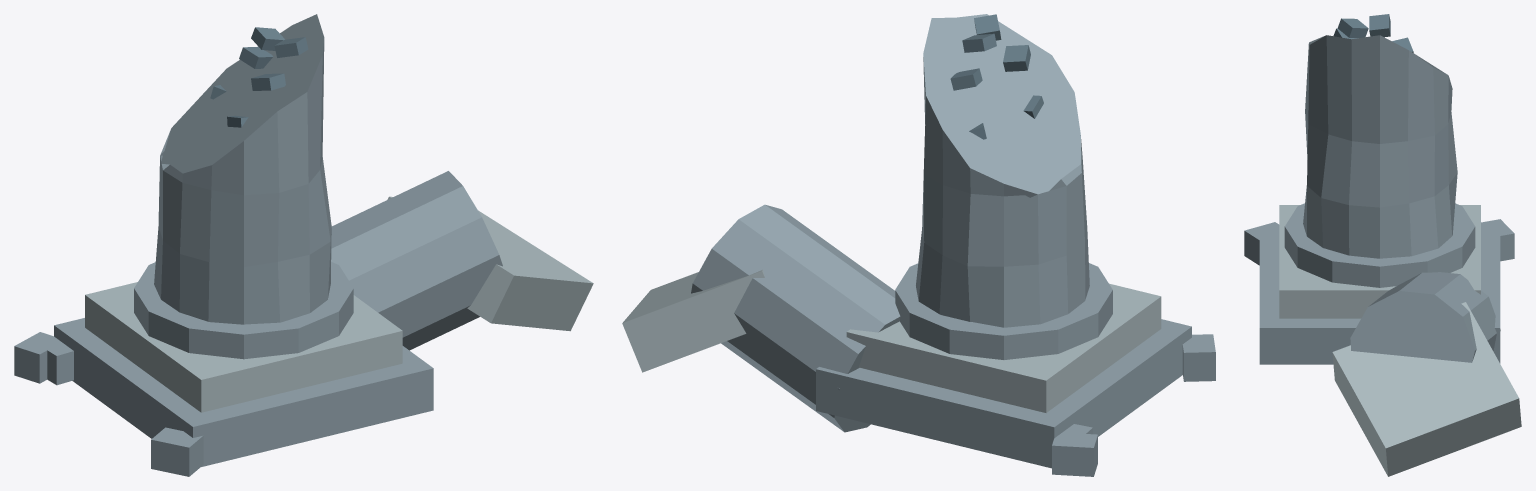
The model's file is b2-ruined-pillar-v3.glb.
The picture shows the model from 3 angles, left to right: view 1: azimuth 30°, elevation 25°; view 2: azimuth 150°, elevation 25°; view 3: azimuth 270°, elevation 25°; orthographic projection. The views are drawn at different scales.
Visible parts, largest first — view 1: genuinely angled broken column, stone plinth, fallen upper column section, lower carved base, lower torus stone, fallen broken carved capital, fallen stone block.006, fallen stone block.008, fallen stone block.005; view 2: genuinely angled broken column, fallen upper column section, stone plinth, lower carved base, lower torus stone, fallen broken carved capital, fallen stone block.008, fallen stone block.006, deep fractured stone edge.007; view 3: genuinely angled broken column, fallen broken carved capital, fallen upper column section, stone plinth, lower torus stone, lower carved base, fallen stone block.008, fallen stone block.006, deep fractured stone edge.008, deep fractured stone edge.
Part boxes in pixels (x1,y1,x2,y2): genuinely angled broken column: (154, 14, 331, 324); stone plinth: (54, 318, 433, 466); fallen upper column section: (331, 171, 502, 350); lower carved base: (85, 282, 402, 412); lower torus stone: (134, 261, 353, 359); fallen broken carved capital: (387, 196, 593, 331); fallen stone block.006: (151, 427, 203, 476); fallen stone block.008: (14, 332, 61, 383); fallen stone block.005: (39, 342, 73, 385); genuinely angled broken column: (916, 14, 1089, 327); fallen upper column section: (691, 204, 900, 432); stone plinth: (816, 319, 1191, 468); lower carved base: (846, 283, 1161, 412); lower torus stone: (895, 263, 1112, 359); fallen broken carved capital: (622, 270, 764, 372); fallen stone block.008: (1052, 432, 1097, 476); fallen stone block.006: (1182, 334, 1215, 381); deep fractured stone edge.007: (1003, 45, 1030, 71); genuinely angled broken column: (1303, 35, 1457, 258); fallen broken carved capital: (1332, 302, 1521, 476); fallen upper column section: (1350, 272, 1500, 362); stone plinth: (1259, 226, 1500, 364); lower torus stone: (1284, 203, 1475, 287); lower carved base: (1279, 205, 1480, 318); fallen stone block.008: (1481, 219, 1514, 261); fallen stone block.006: (1244, 222, 1279, 265); deep fractured stone edge.008: (1337, 18, 1368, 37); deep fractured stone edge: (1369, 14, 1390, 37).
Size of the model in its own units: 4.59 by 3.41 by 2.48.
